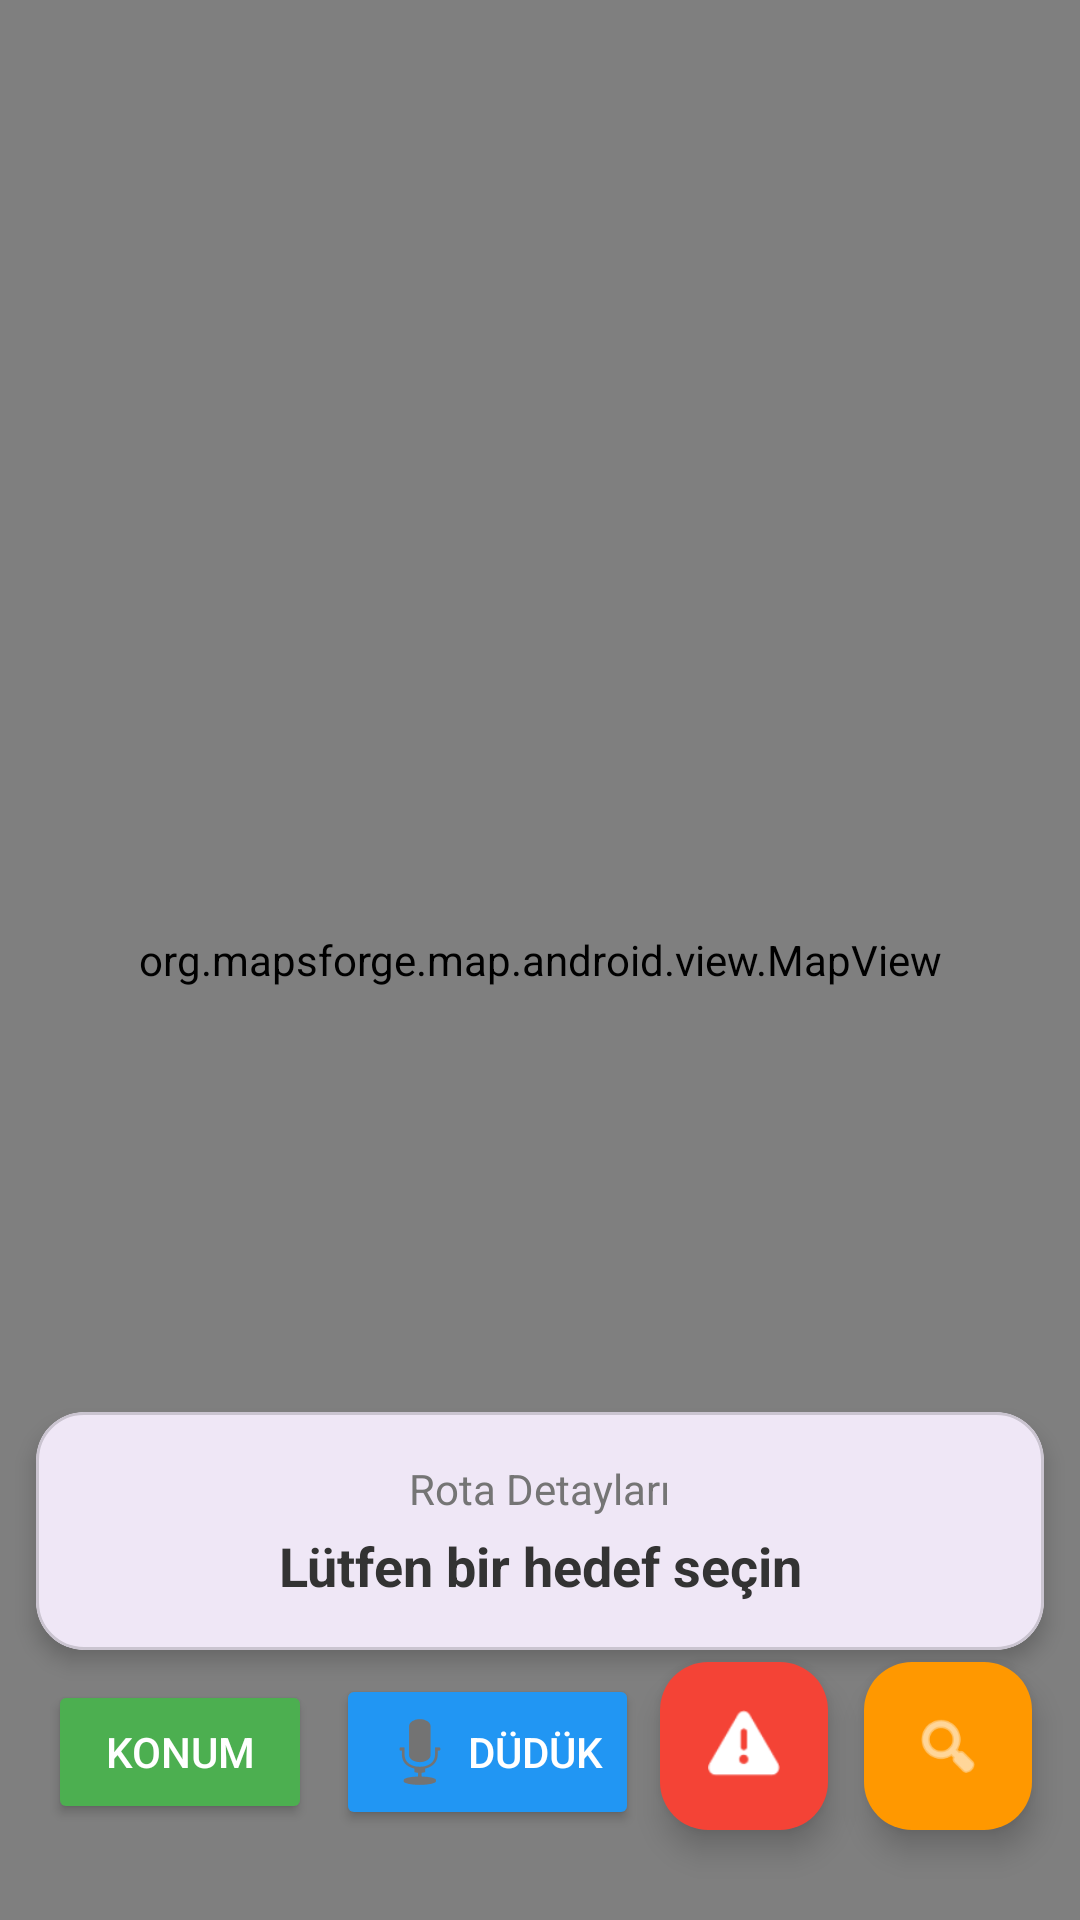

Icon bounding boxes for this 1080px×1920px phone screenshot, format (x1,y1,x2,y2):
alert: (660,1662,828,1830)
search: (864,1662,1032,1830)
